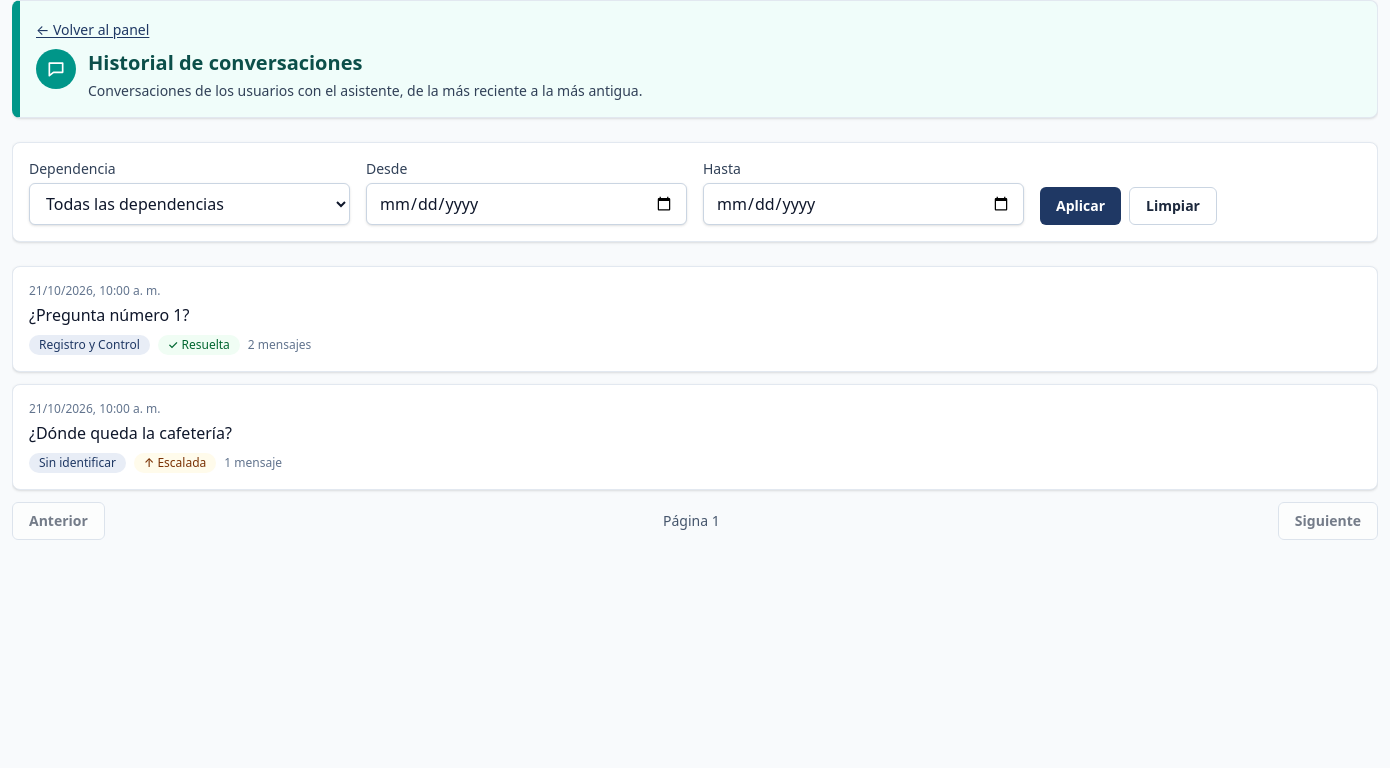
Test: historial administrativo: lista › un periodo invertido se avisa sin consultar la API
Expected: the text "¿Pregunta número 1?" is shown, x1=29 y1=304 x2=190 y2=326
Type "2026-10-20" into the date field labelled "Desde". click: [526, 204]
box: x1=366 y1=183 x2=687 y2=225
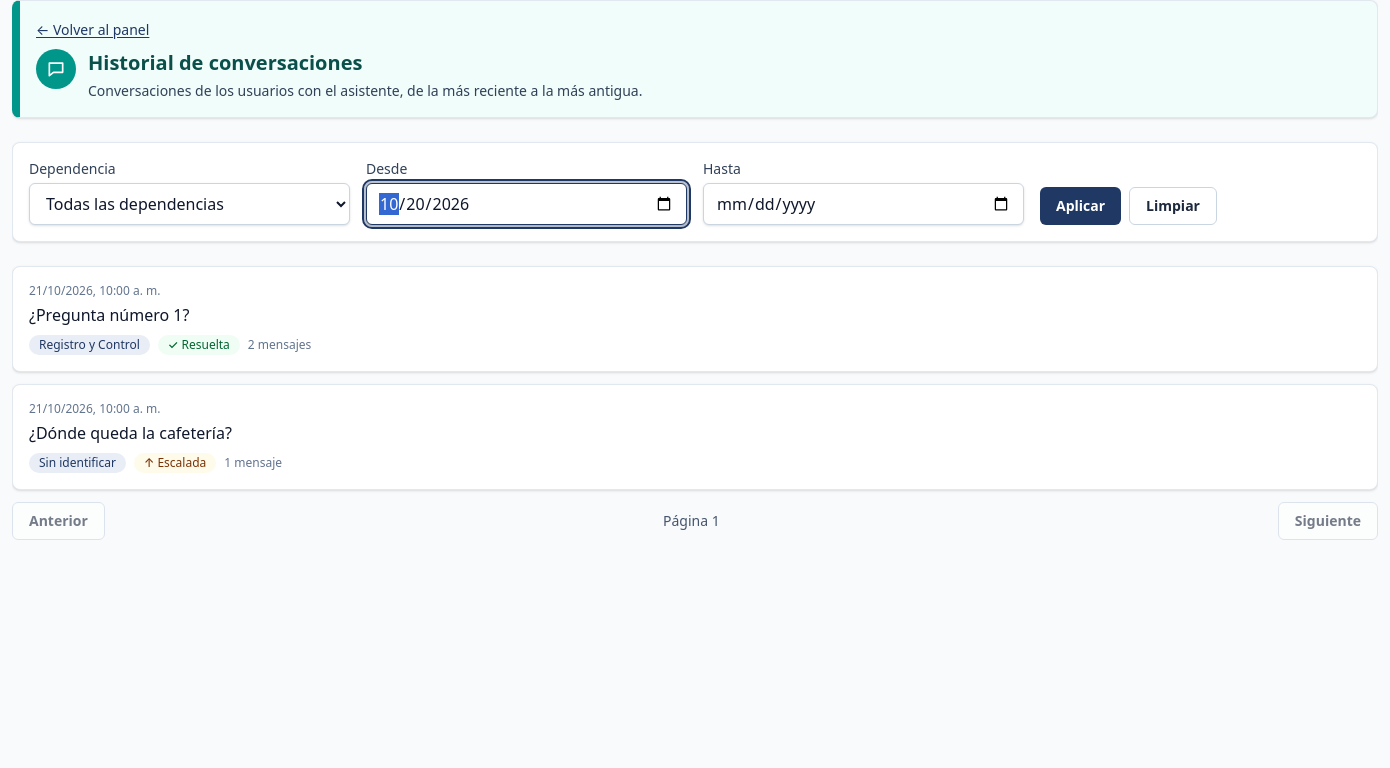
Type "2026-10-01" into the date field labelled "Hasta". click: [864, 204]
box: x1=703 y1=183 x2=1024 y2=225
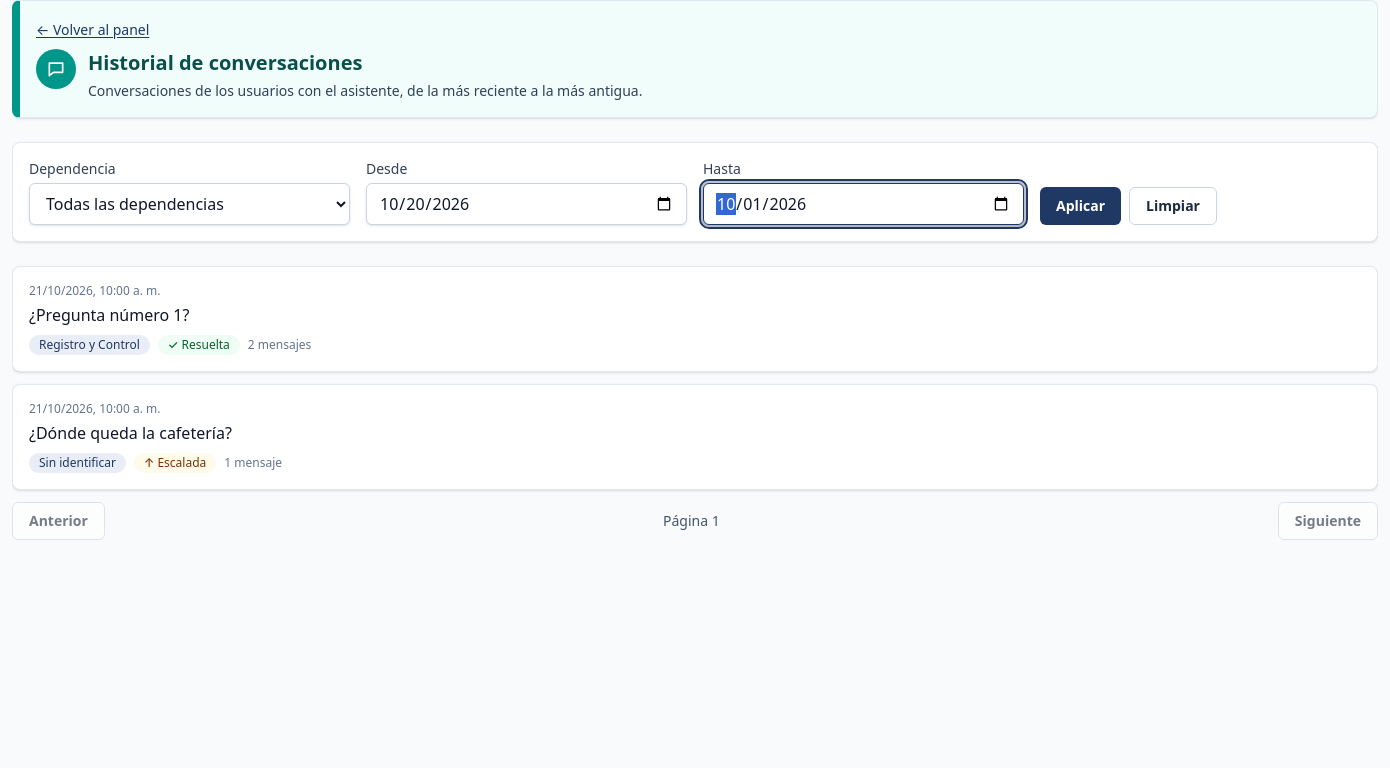
Click the button "Aplicar". click: [1081, 206]
box: x1=1040 y1=187 x2=1121 y2=225
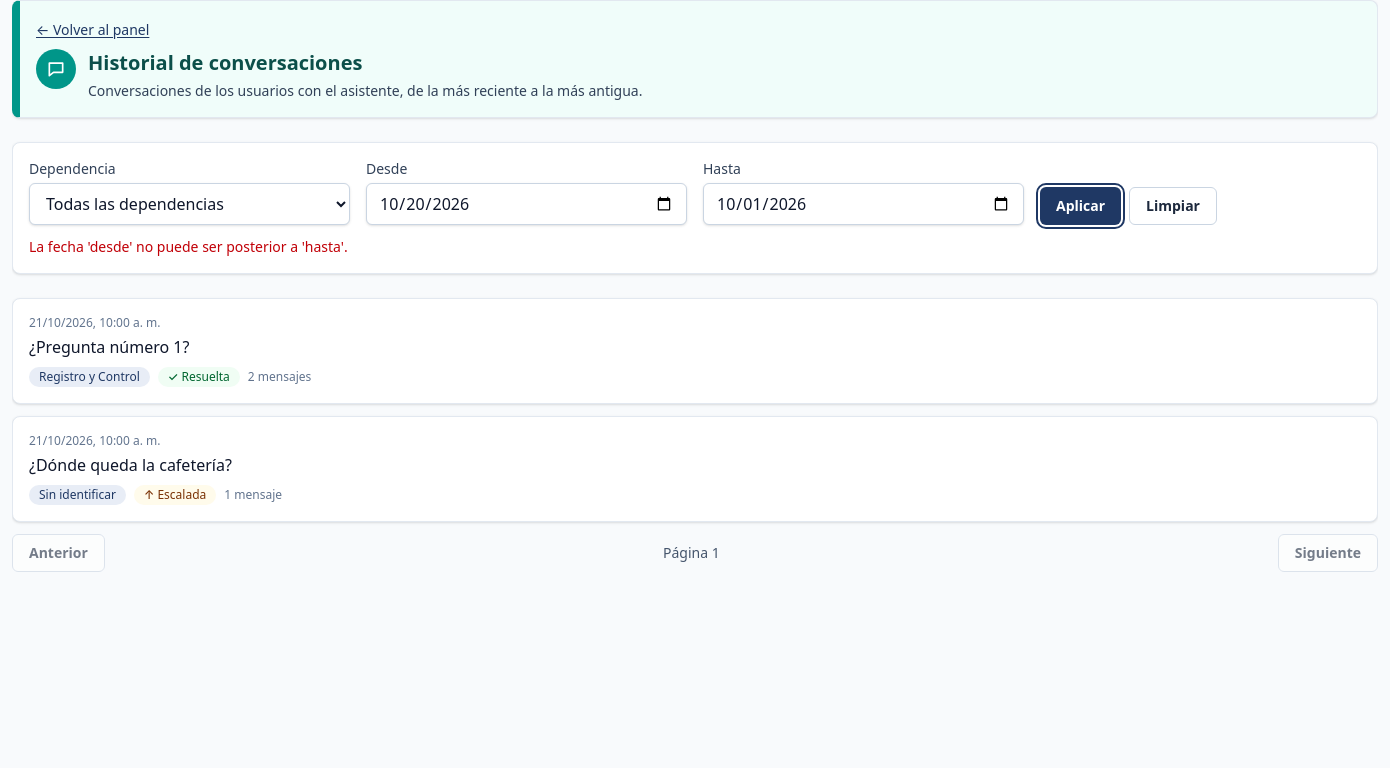
Expected: the message shows "posterior", x1=29 y1=237 x2=348 y2=256
